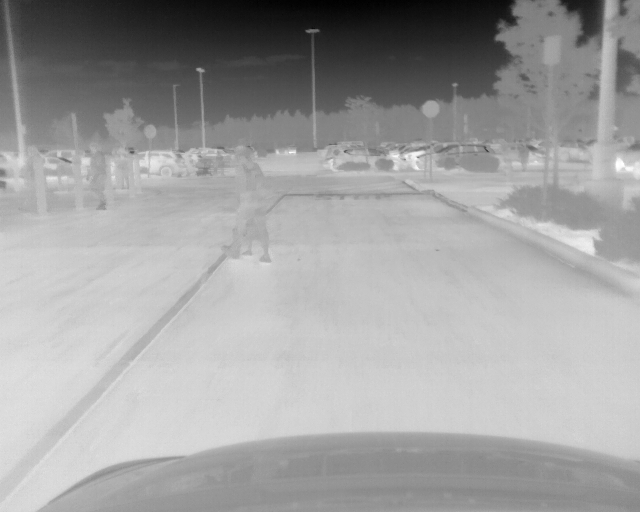car: (417, 145, 495, 170), (334, 147, 406, 172), (139, 149, 187, 179), (504, 147, 547, 165), (617, 144, 639, 178), (557, 140, 589, 159), (195, 148, 225, 158), (276, 147, 295, 155)
people: (218, 151, 270, 261), (87, 145, 107, 215), (115, 156, 130, 190), (517, 142, 528, 172), (215, 152, 223, 174)
